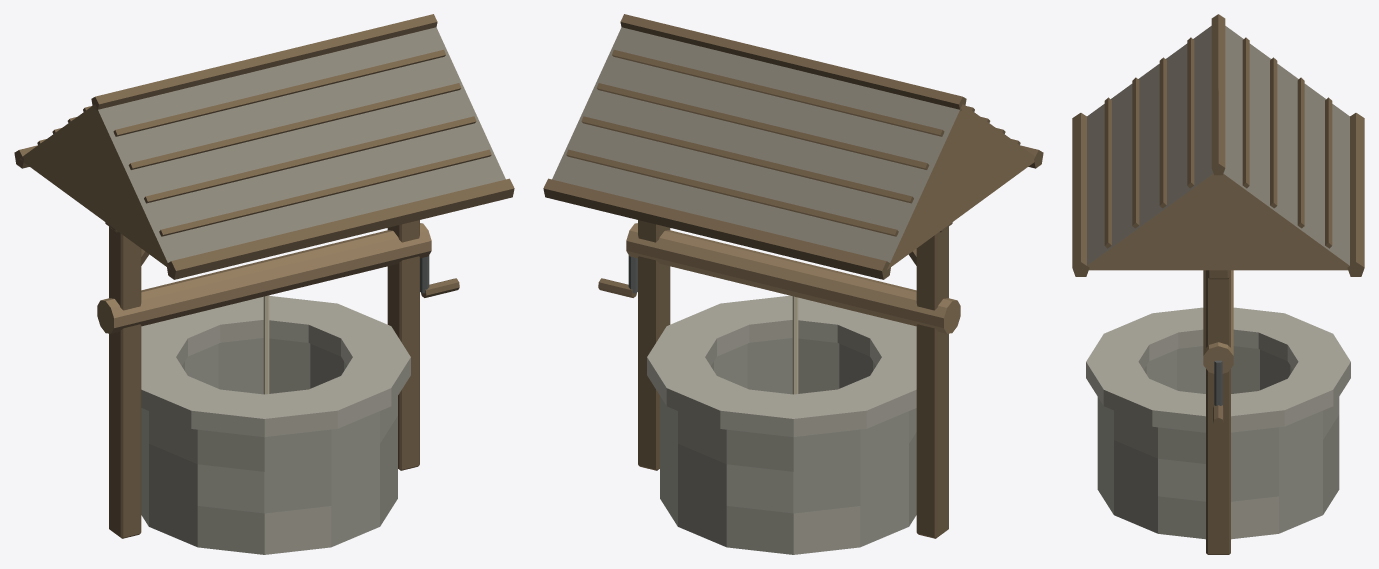
File: well.glb
The picture shows the model from 3 angles, left to right: view 1: azimuth 30°, elevation 25°; view 2: azimuth 150°, elevation 25°; view 3: azimuth 270°, elevation 25°; orthographic projection. The views are drawn at different scales.
Parts seen in each view (by area): view 1: well_fort_shingle, well_oak_dark, well_fort_masonry, well_fort_stone_light, well_oak, well_linen; view 2: well_fort_shingle, well_oak_dark, well_fort_masonry, well_fort_stone_light, well_oak, well_linen; view 3: well_fort_shingle, well_fort_masonry, well_oak_dark, well_fort_stone_light, well_oak, well_iron.
Boxes of the visible parts, box(x1,y1,x2,y2) form: well_fort_shingle: box(19, 27, 505, 269); well_oak_dark: box(14, 14, 514, 538); well_fort_masonry: box(141, 338, 397, 554); well_fort_stone_light: box(141, 296, 410, 437); well_oak: box(97, 223, 431, 333); well_linen: box(263, 295, 269, 394); well_fort_shingle: box(552, 27, 1035, 269); well_oak_dark: box(543, 14, 1043, 538); well_fort_masonry: box(660, 338, 916, 554); well_fort_stone_light: box(647, 295, 916, 437); well_oak: box(626, 223, 960, 333); well_linen: box(792, 296, 798, 394); well_fort_shingle: box(1082, 26, 1349, 270); well_fort_masonry: box(1097, 346, 1339, 539); well_oak_dark: box(1072, 14, 1364, 554); well_fort_stone_light: box(1086, 307, 1350, 432); well_oak: box(1203, 270, 1233, 373); well_iron: box(1214, 360, 1222, 405).
Bounding box in the file's own units: 2.6 × 3.04 × 2.01.
